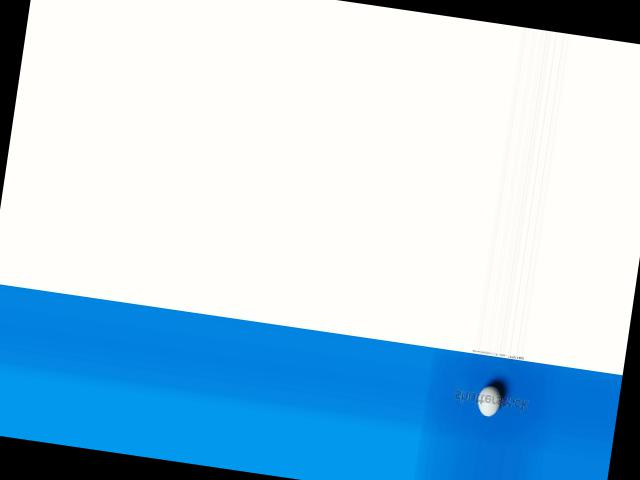egg: (476, 384, 502, 418)
